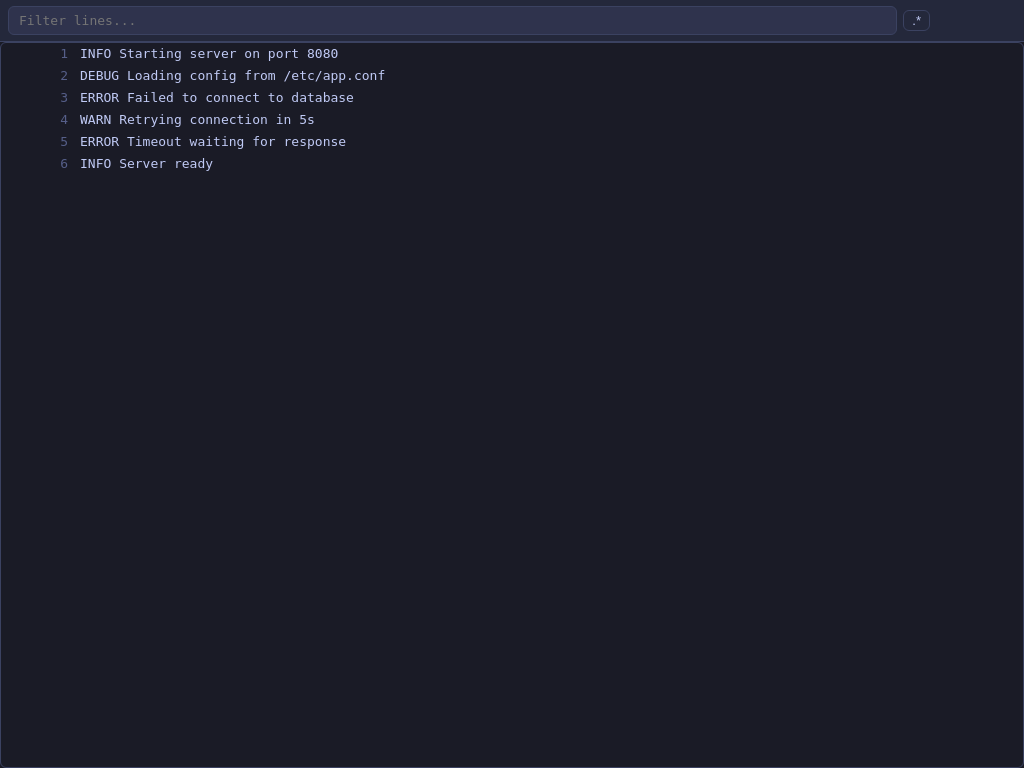
Scenario: LogViewer Search › closes search via close button
The image size is (1024, 768).
Press f
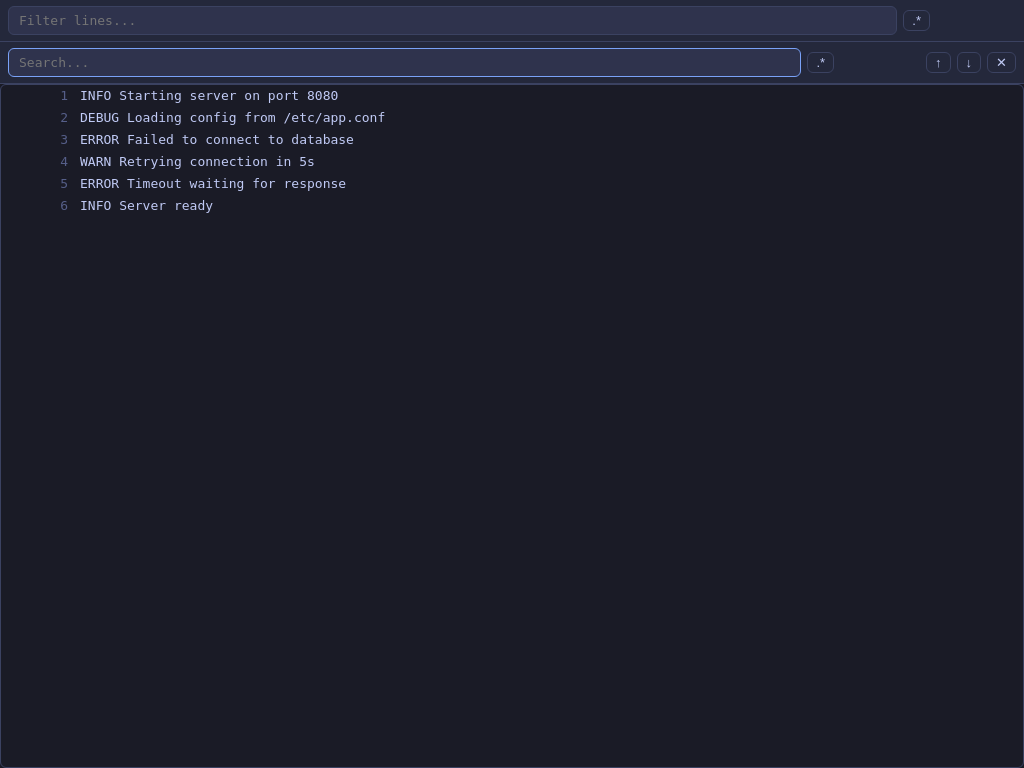
Click the button titled "Close search": (1002, 62) top-left (987, 52), bottom-right (1016, 73)
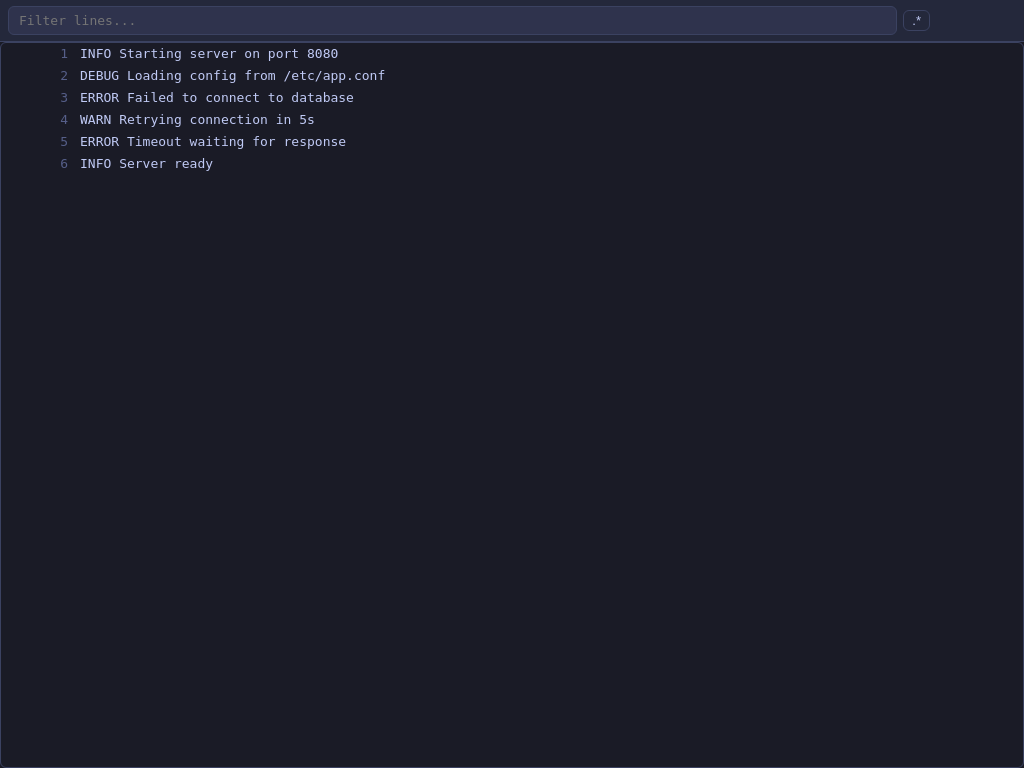
Expected: the field with placeholder "Search..." is gone
